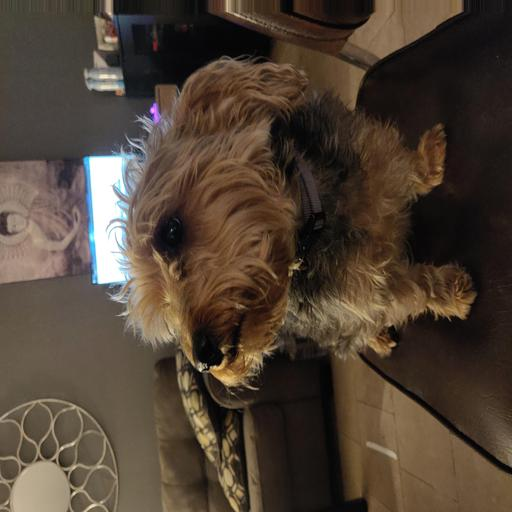dog: (128, 86, 438, 396)
